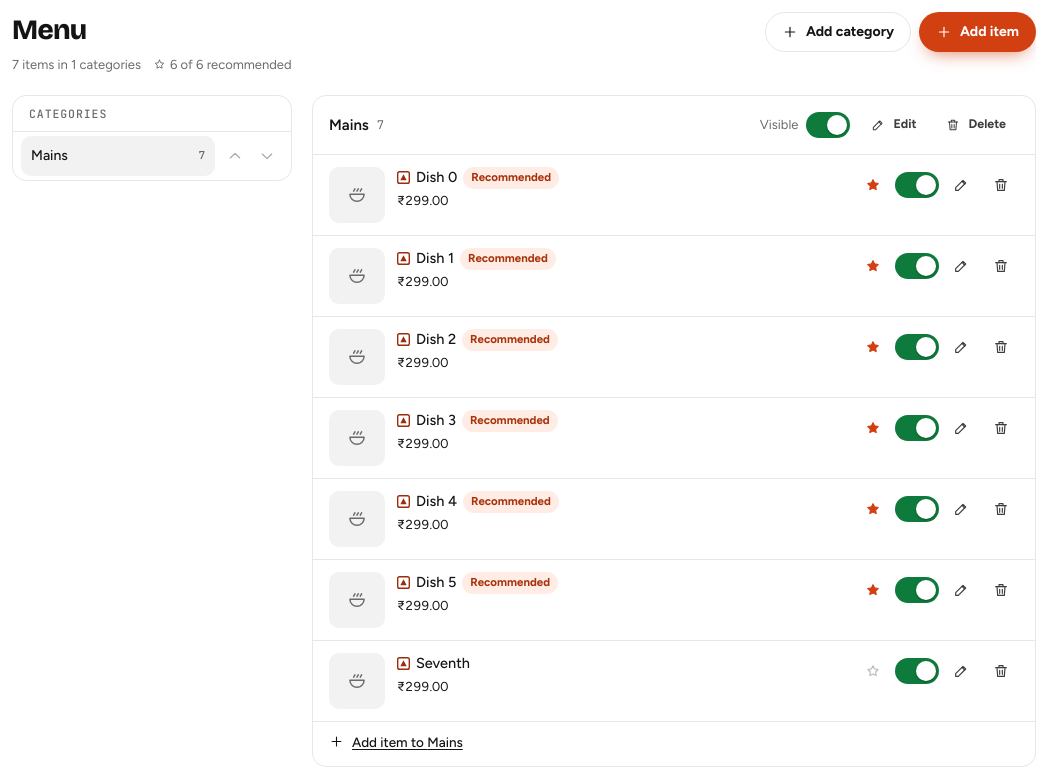
Menu: recommended (featured, max 6) › disables starring a 7th item and explains a server refusal
This screenshot has width=1048, height=780.
Expected: the button named "Recommended is full (6)" is disabled, [855,653,891,689]
Expected: the text "6 of 6 recommended" is shown, [153,55,292,75]
Click the button named "Remove Dish 0 from recommended". click: (873, 185)
box: [855,167,891,203]
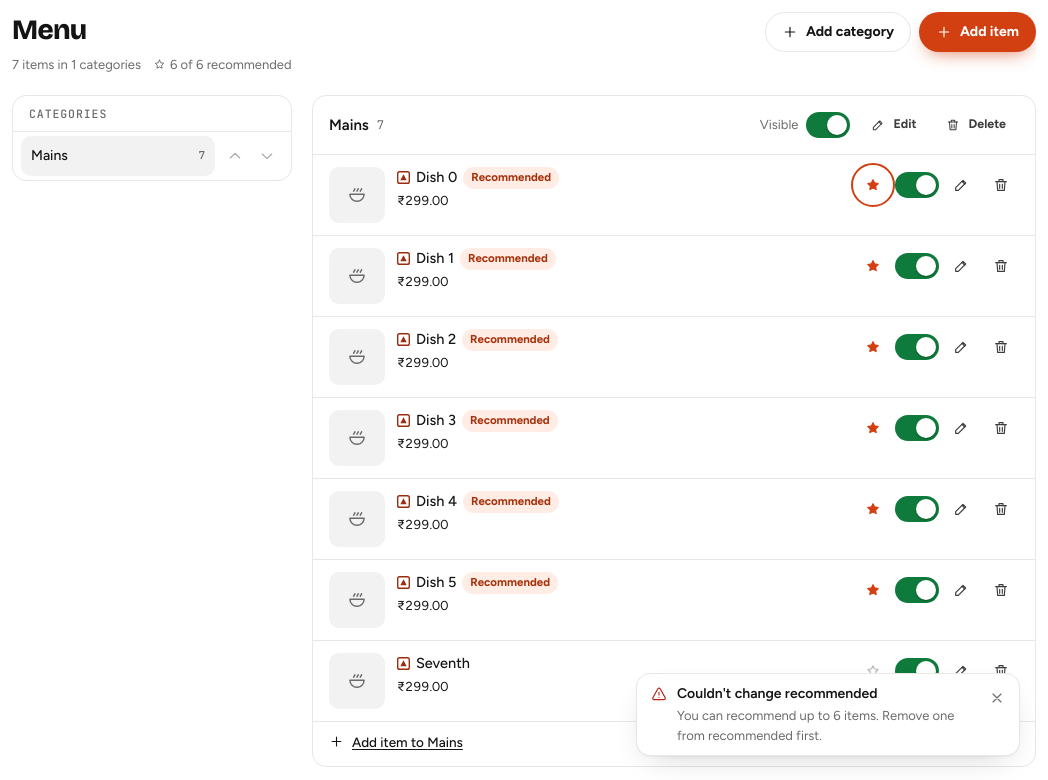
Expected: the text "recommend up to 6 items" is shown, [677,708,954,742]
